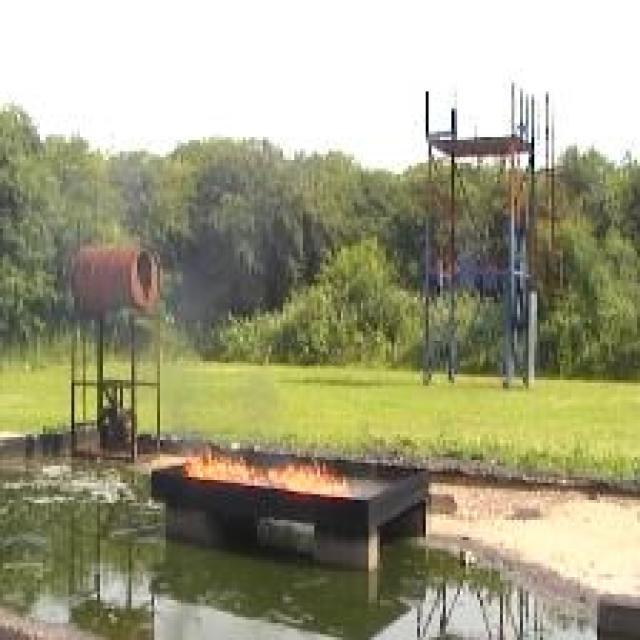Fire: (268, 453, 352, 496), (182, 448, 258, 486)
